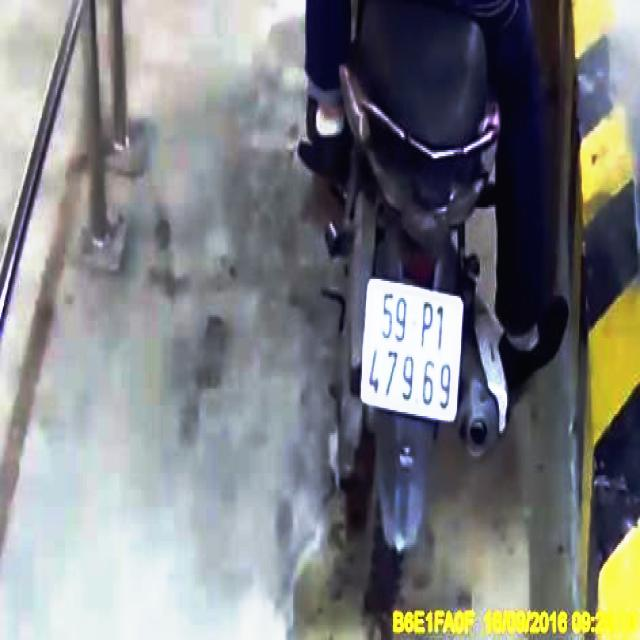license_plate: (362, 279, 464, 422)
